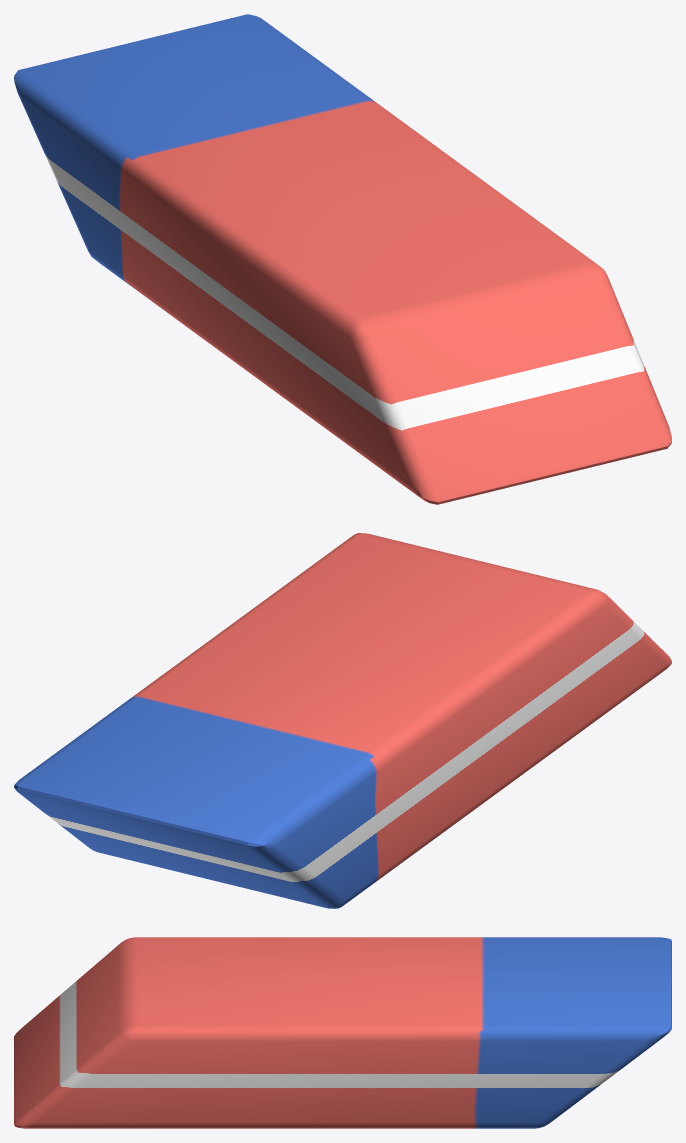
Rendered from eraser_v01.gltf.
3 views of the same model, one above another, from view 1: azimuth 30°, elevation 25°; view 2: azimuth 150°, elevation 25°; view 3: azimuth 270°, elevation 25° (orthographic). The views are drawn at different scales.
Parts seen in each view (by area): view 1: eraser; view 2: eraser; view 3: eraser.
Boxes of the visible parts, x1=… form: eraser: x1=14, y1=14, x2=671, y2=504; eraser: x1=14, y1=533, x2=671, y2=908; eraser: x1=14, y1=937, x2=671, y2=1128.
Bounding box in the file's own units: 0.0144 × 0.00701 × 0.0409.
